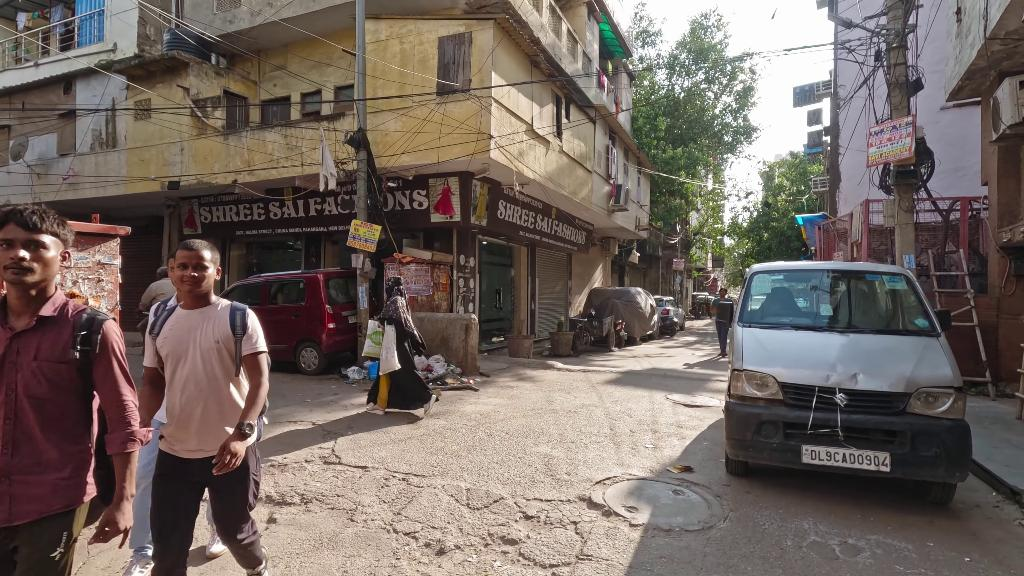garbage: (413, 351, 450, 378), (343, 367, 364, 381)
